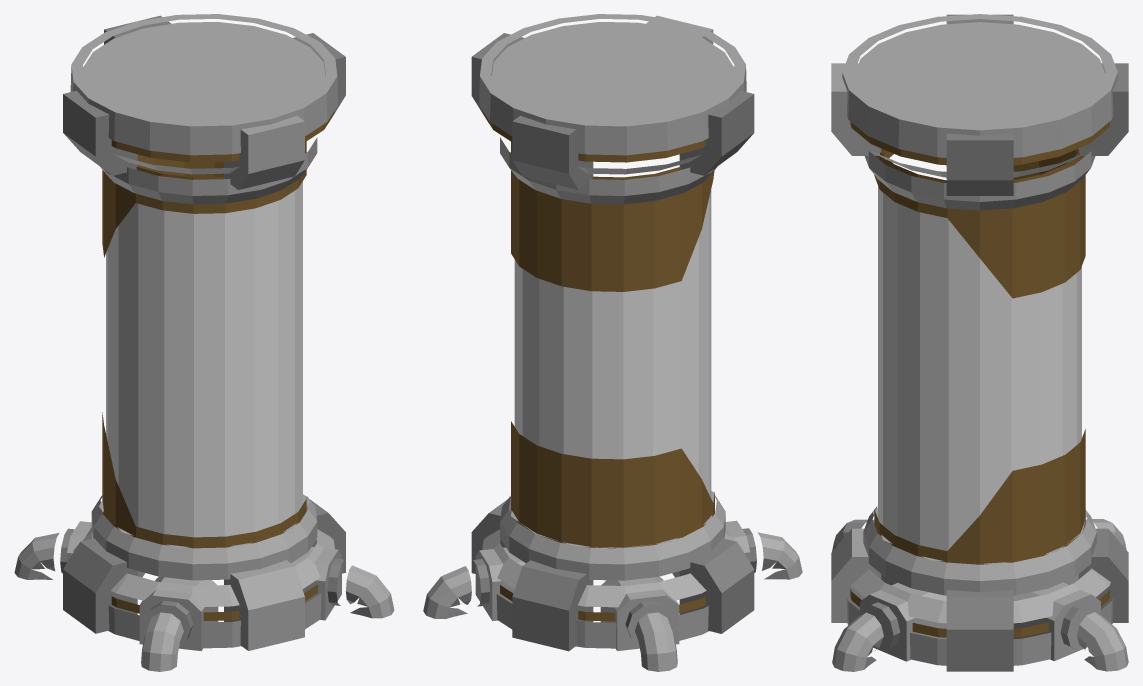
The model's file is Scifi Pod compressed.glb.
The picture shows the model from 3 angles, left to right: view 1: azimuth 30°, elevation 25°; view 2: azimuth 150°, elevation 25°; view 3: azimuth 270°, elevation 25°; orthographic projection. The views are drawn at different scales.
Visible parts, largest first — view 1: Props_Pod; view 2: Props_Pod; view 3: Props_Pod.
Boxes of the visible parts, x1,y1,x2,y2 form: Props_Pod: (14,14,394,671); Props_Pod: (423,14,802,671); Props_Pod: (831,14,1128,671).
Bounding box in the file's own units: 1.81 × 3.61 × 1.81.
